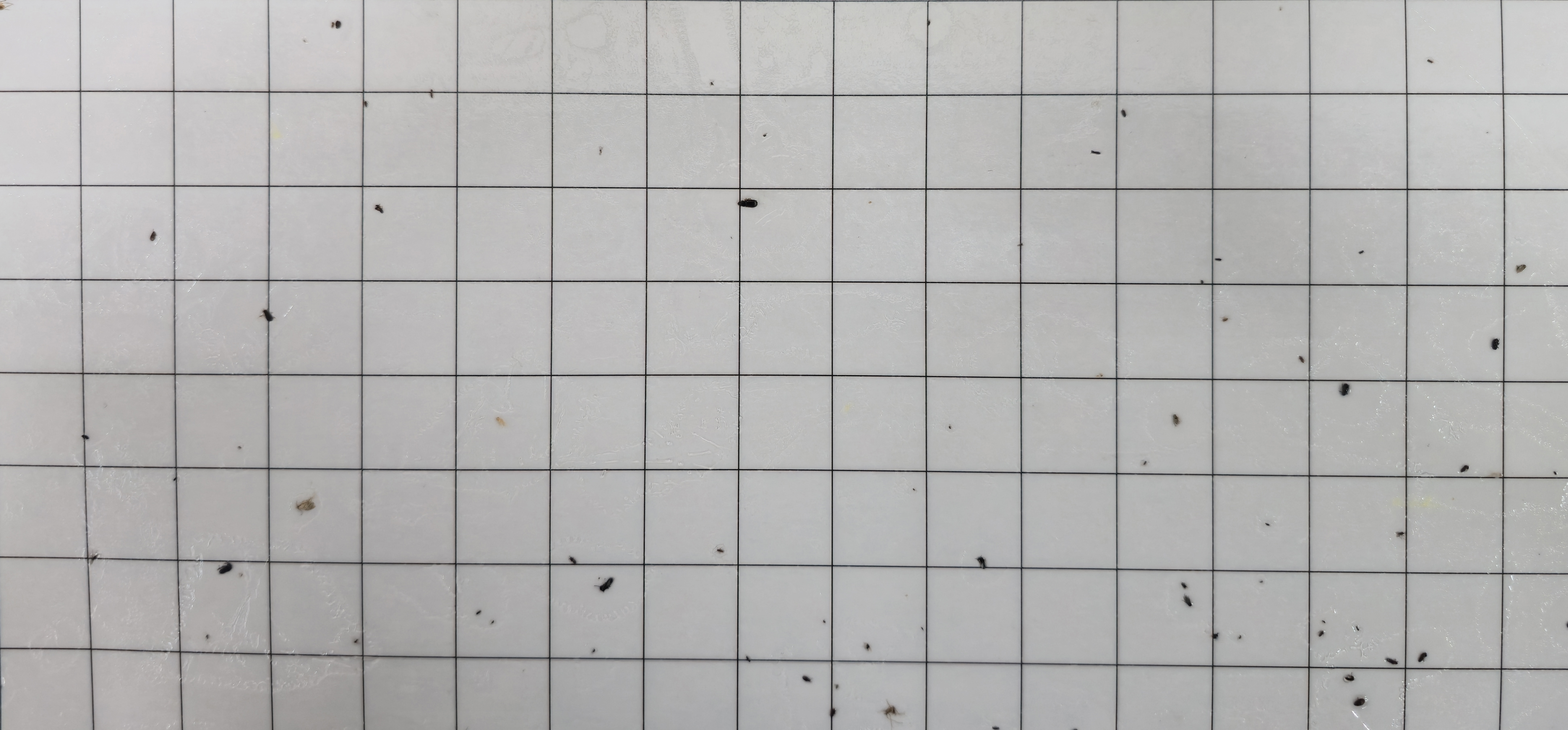test: (736, 193, 760, 211), (295, 495, 317, 513), (597, 576, 615, 593), (881, 703, 900, 719), (215, 560, 235, 575), (261, 308, 277, 323), (495, 413, 509, 429), (975, 556, 989, 570), (1385, 655, 1399, 668), (1339, 383, 1351, 398), (1182, 594, 1195, 607), (330, 18, 342, 31), (1417, 650, 1429, 663), (374, 202, 385, 216), (1353, 696, 1367, 707), (1515, 262, 1527, 274), (148, 230, 159, 242), (1459, 464, 1471, 475), (1089, 148, 1102, 158), (1490, 337, 1500, 350), (568, 555, 578, 568), (1172, 413, 1181, 426), (1297, 354, 1307, 365), (801, 674, 812, 684), (1213, 255, 1225, 264), (1345, 672, 1354, 684), (716, 545, 726, 555), (1180, 580, 1189, 591), (1120, 108, 1129, 118), (1140, 459, 1149, 469), (864, 641, 873, 651), (89, 554, 99, 563), (428, 88, 436, 99), (1221, 316, 1230, 325), (1211, 632, 1220, 641), (474, 608, 483, 617), (81, 433, 90, 442), (829, 707, 837, 717), (597, 147, 605, 157), (1426, 58, 1435, 66), (1396, 530, 1405, 538), (1318, 629, 1326, 638), (362, 99, 370, 107), (1358, 249, 1366, 257), (1264, 521, 1272, 529), (745, 655, 753, 663), (1354, 624, 1361, 633), (352, 638, 361, 645), (1550, 470, 1560, 476), (834, 681, 840, 691), (946, 424, 954, 431), (590, 647, 597, 655), (204, 633, 211, 641), (490, 618, 497, 626), (236, 444, 244, 451), (762, 131, 768, 140), (992, 724, 1001, 730), (1258, 579, 1265, 586), (919, 625, 926, 632), (172, 476, 179, 483), (709, 79, 715, 87), (1017, 242, 1025, 248), (1199, 279, 1205, 286), (1237, 635, 1243, 641), (926, 19, 931, 26), (1321, 619, 1328, 624), (822, 618, 827, 625), (911, 487, 916, 492)
